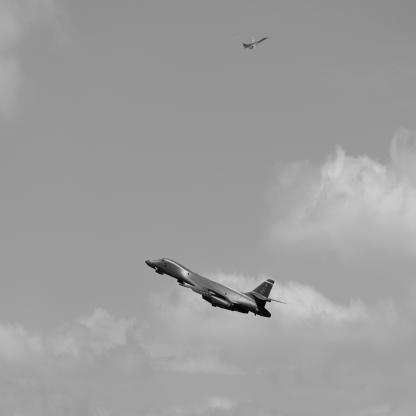B1: (146, 259, 290, 319), (243, 35, 270, 55)
